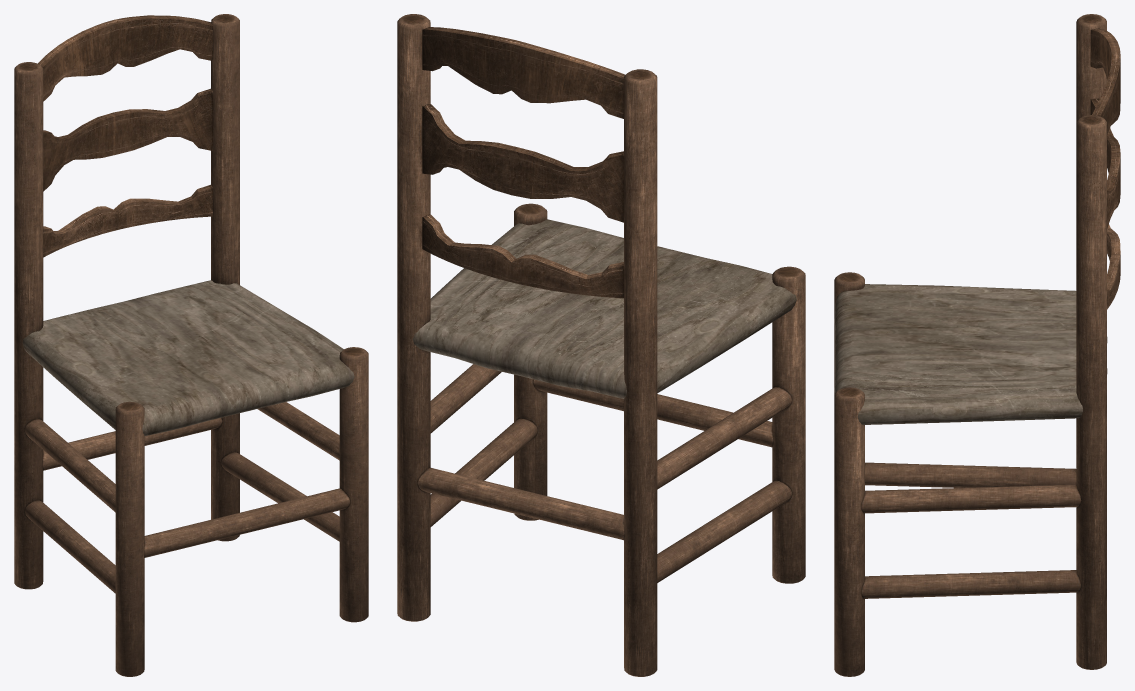
Rendered from Chair01.obj.
3 renders of one model, left to right at view 1: azimuth 30°, elevation 25°; view 2: azimuth 150°, elevation 25°; view 3: azimuth 270°, elevation 25°, orthographic. The views are drawn at different scales.
Visible parts, largest first — view 1: Cylinder_Cylinder.001, Cylinder.003_Cylinder.004, Cube.002_Cube.003, Cylinder.001_Cylinder.002; view 2: Cylinder_Cylinder.001, Cylinder.003_Cylinder.004, Cube.002_Cube.003, Cylinder.001_Cylinder.002; view 3: Cylinder.003_Cylinder.004, Cylinder_Cylinder.001, Cylinder.001_Cylinder.002, Cube.002_Cube.003.
Boxes of the visible parts, <box> form: Cylinder_Cylinder.001: <box>14,14,368,676</box>; Cylinder.003_Cylinder.004: <box>22,280,354,436</box>; Cube.002_Cube.003: <box>37,15,212,257</box>; Cylinder.001_Cylinder.002: <box>24,402,349,593</box>; Cylinder_Cylinder.001: <box>397,14,805,676</box>; Cylinder.003_Cylinder.004: <box>412,219,796,398</box>; Cube.002_Cube.003: <box>422,27,625,298</box>; Cylinder.001_Cylinder.002: <box>417,364,792,582</box>; Cylinder.003_Cylinder.004: <box>834,284,1107,424</box>; Cylinder_Cylinder.001: <box>834,14,1106,676</box>; Cylinder.001_Cylinder.002: <box>861,462,1081,598</box>; Cube.002_Cube.003: <box>1090,28,1120,309</box>.
Size of the model in its own units: 0.7511 by 1.53 by 0.7095.
1 material, 1 textured.
